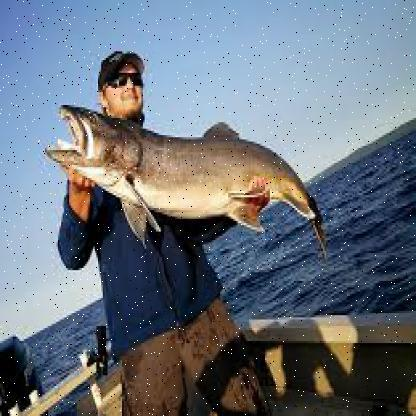fish: (38, 99, 328, 251)
